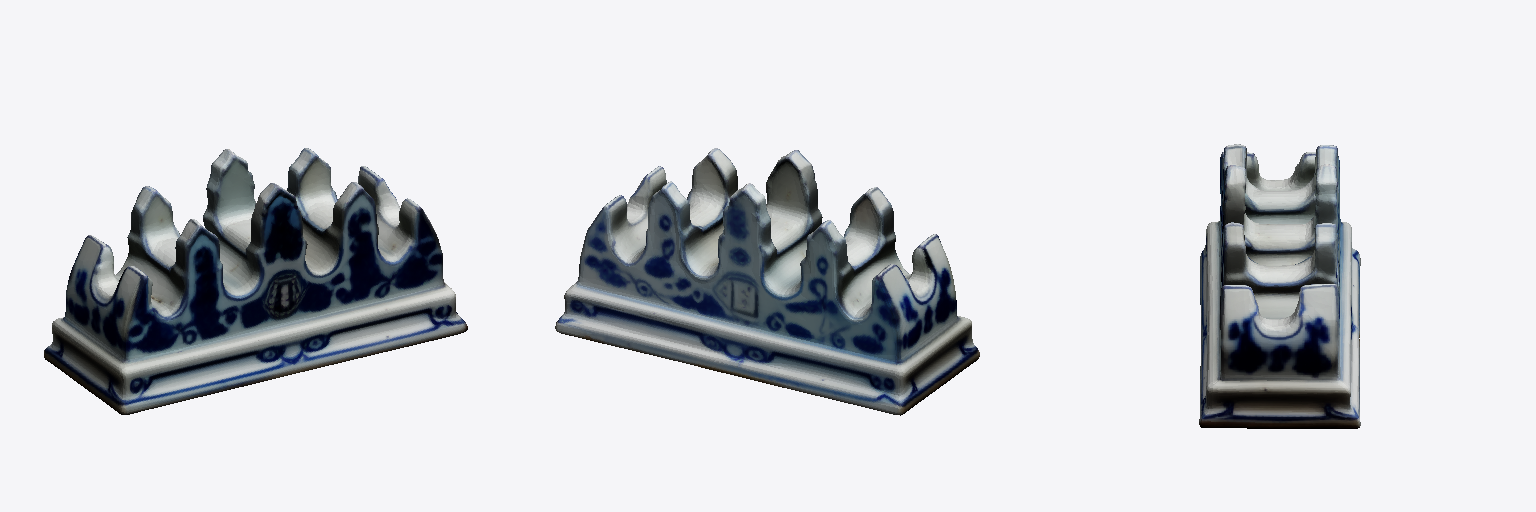
The picture shows the model from 3 angles: view 1: azimuth 30°, elevation 25°; view 2: azimuth 150°, elevation 25°; view 3: azimuth 270°, elevation 25°; orthographic projection.
Parts seen in each view (by area): view 1: geometry_0; view 2: geometry_0; view 3: geometry_0.
Boxes of the visible parts, x1=… form: geometry_0: x1=44, y1=148, x2=467, y2=414; geometry_0: x1=555, y1=148, x2=979, y2=415; geometry_0: x1=1199, y1=144, x2=1360, y2=428.
Size of the model in its own units: 1 by 0.4956 by 0.4015.
1 materials, 1 textured.